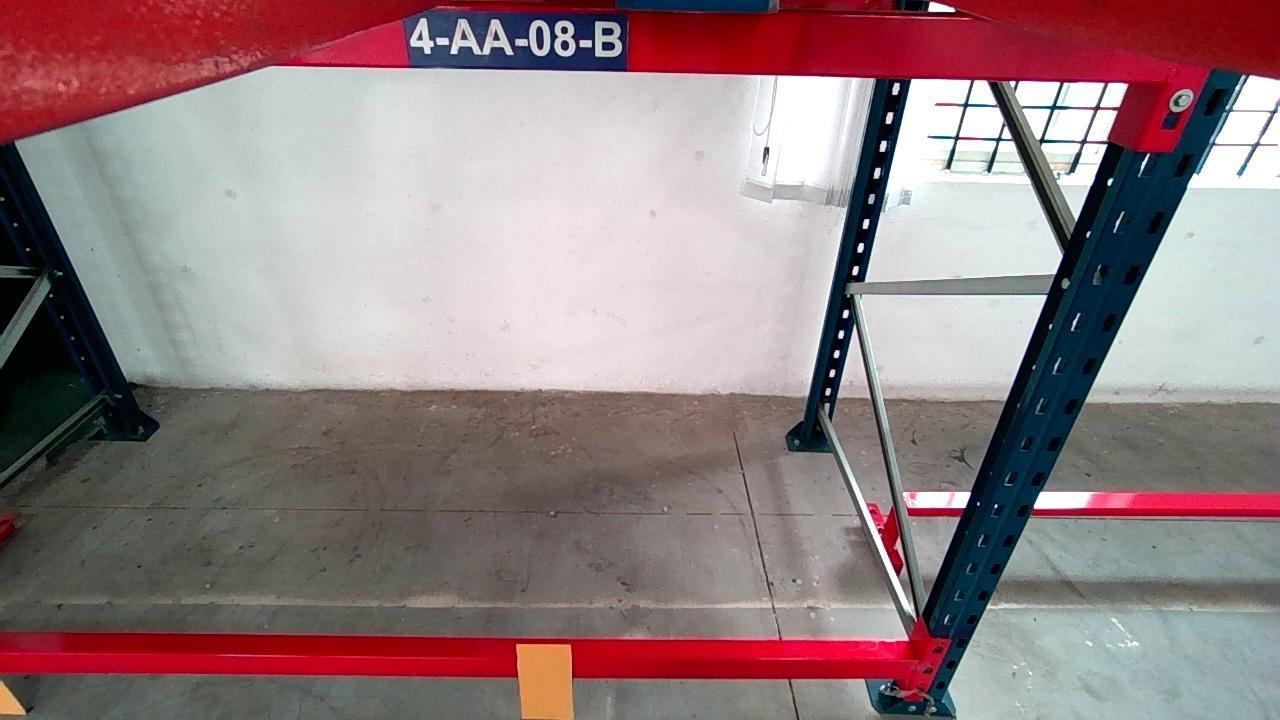h_rack: (284, 5, 1207, 78), (0, 648, 920, 674)
orange_strip: (515, 642, 574, 716)
